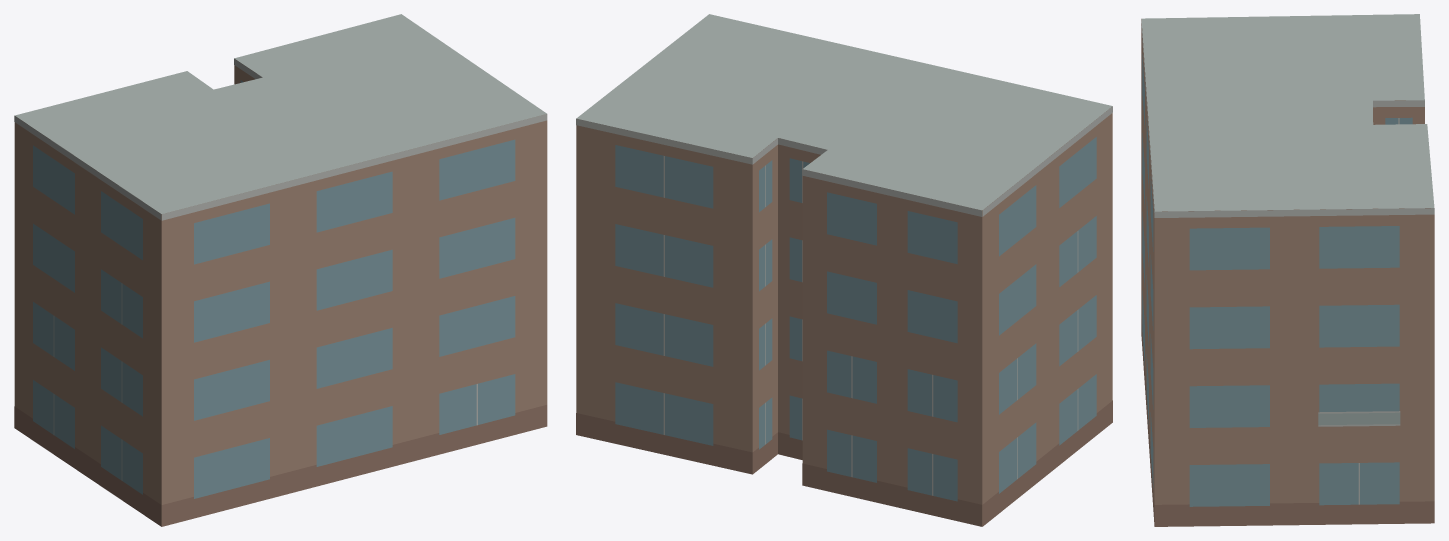
Rendered from survey-upis-32874755.glb.
3 renders of one model, left to right at view 1: azimuth 30°, elevation 25°; view 2: azimuth 150°, elevation 25°; view 3: azimuth 270°, elevation 25°, orthographic.
Visible parts, largest first — view 1: survey-upis-32874755.tmp; view 2: survey-upis-32874755.tmp; view 3: survey-upis-32874755.tmp.
Boxes of the visible parts, x1,y1,x2,y2 form: survey-upis-32874755.tmp: [14, 14, 547, 526]; survey-upis-32874755.tmp: [576, 14, 1112, 526]; survey-upis-32874755.tmp: [1141, 14, 1434, 526].
Bounding box in the file's own units: 15.73 × 11.7 × 9.87.
